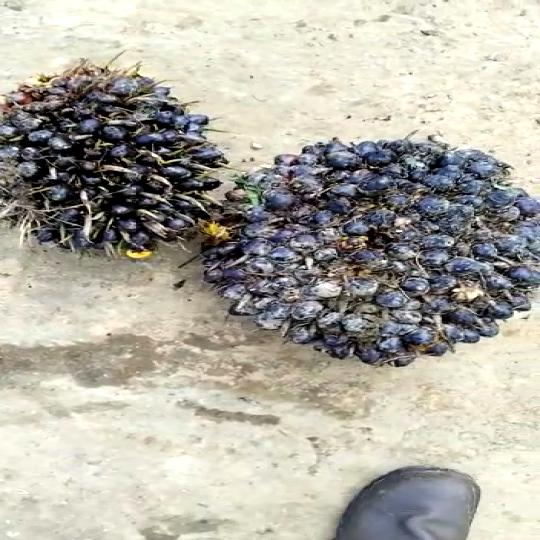mentah: (182, 132, 540, 372), (0, 51, 246, 268)
